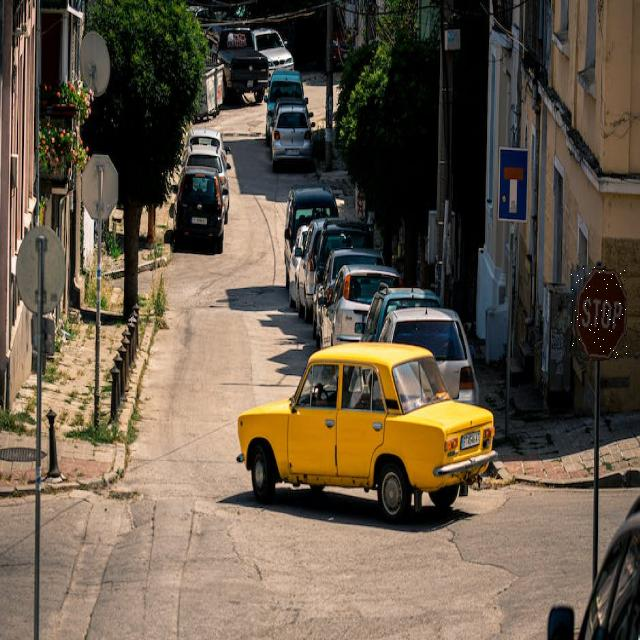stop: (571, 266, 627, 361)
